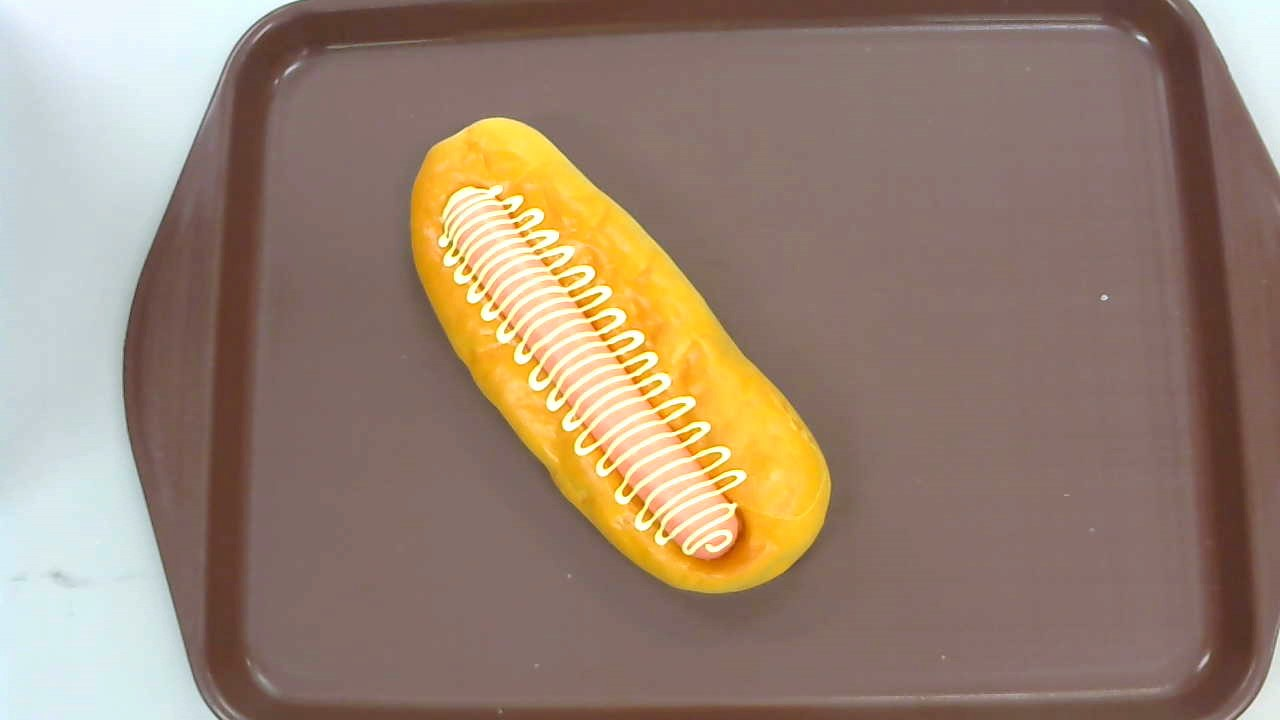hot dog: (410, 116, 833, 597)
